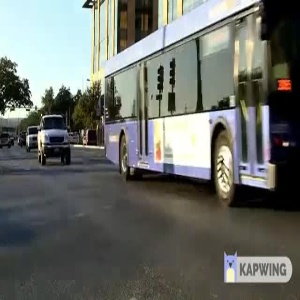bus: (105, 1, 300, 190)
truck: (36, 112, 69, 171)
